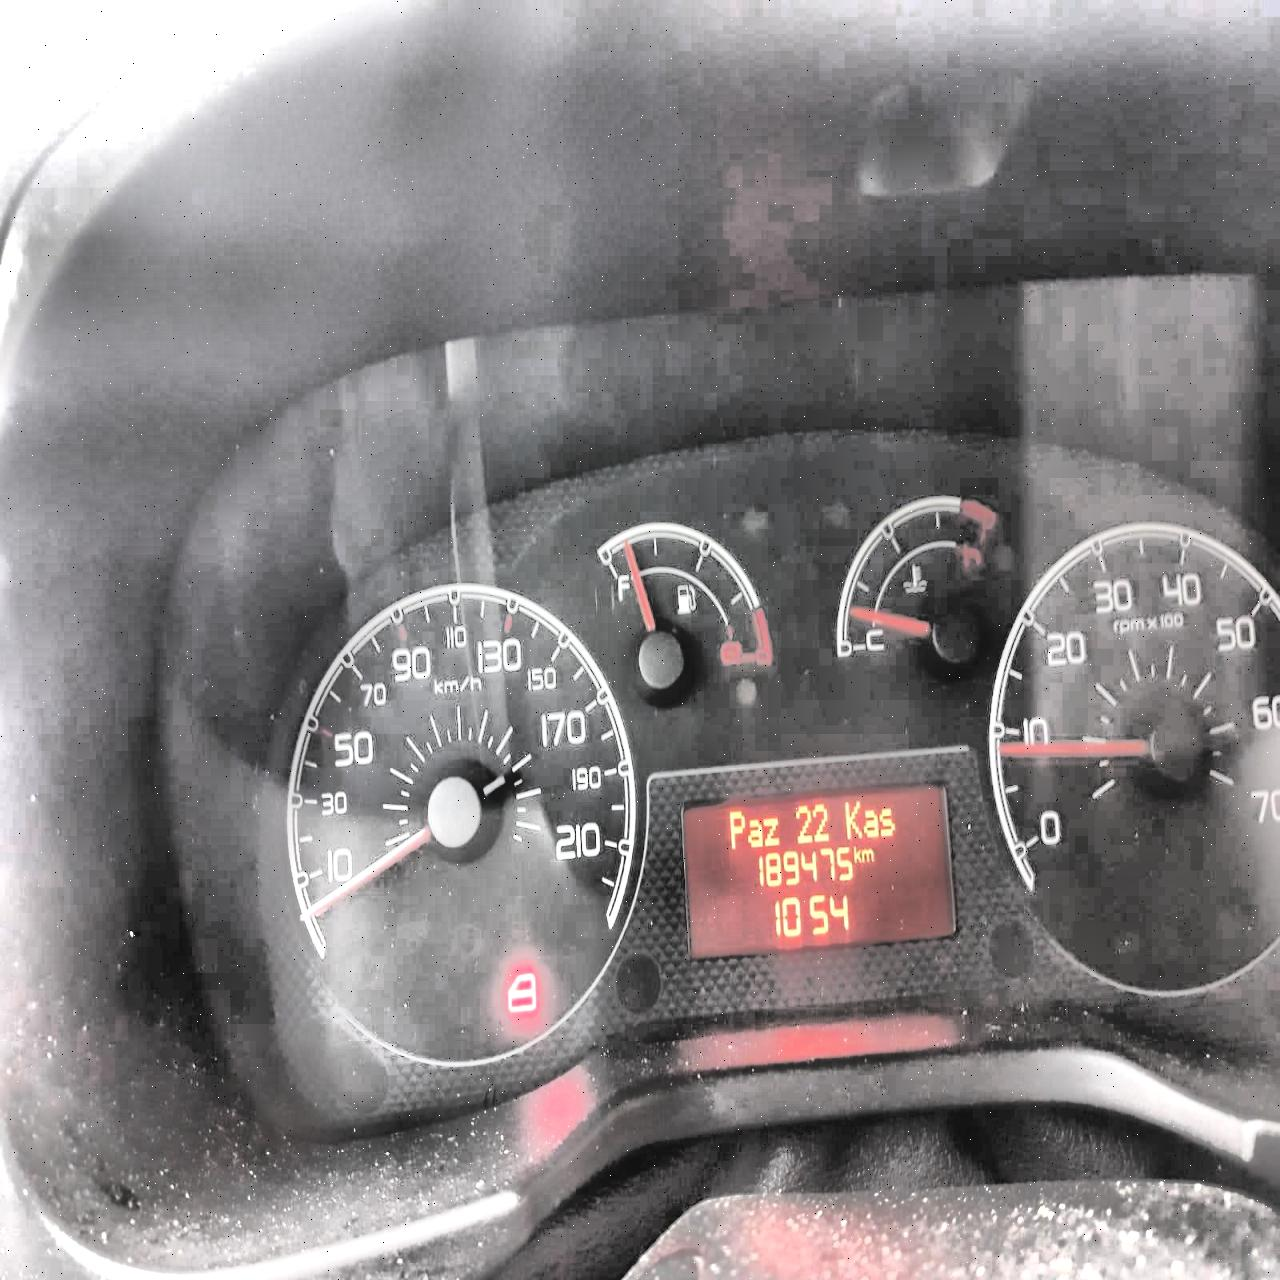0: (781, 894, 802, 937)
1: (774, 899, 781, 937), (757, 853, 764, 887)
2: (794, 804, 812, 844), (811, 802, 829, 842)
4: (828, 893, 849, 931), (799, 849, 817, 881)
5: (808, 893, 828, 935), (836, 845, 853, 881)
7: (818, 847, 835, 880)
8: (764, 851, 782, 886)
9: (782, 849, 799, 885)
X: (844, 798, 863, 840), (728, 809, 745, 850), (745, 817, 763, 847), (762, 816, 779, 846), (878, 808, 896, 837), (862, 808, 878, 837), (859, 847, 874, 862), (852, 844, 862, 863)
odometer: (678, 778, 956, 961)
